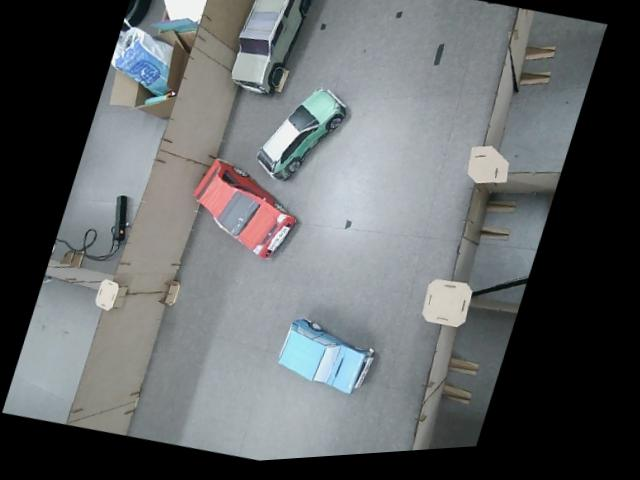car: (174, 146, 315, 271), (247, 73, 356, 195), (267, 306, 386, 404), (220, 0, 322, 103)
